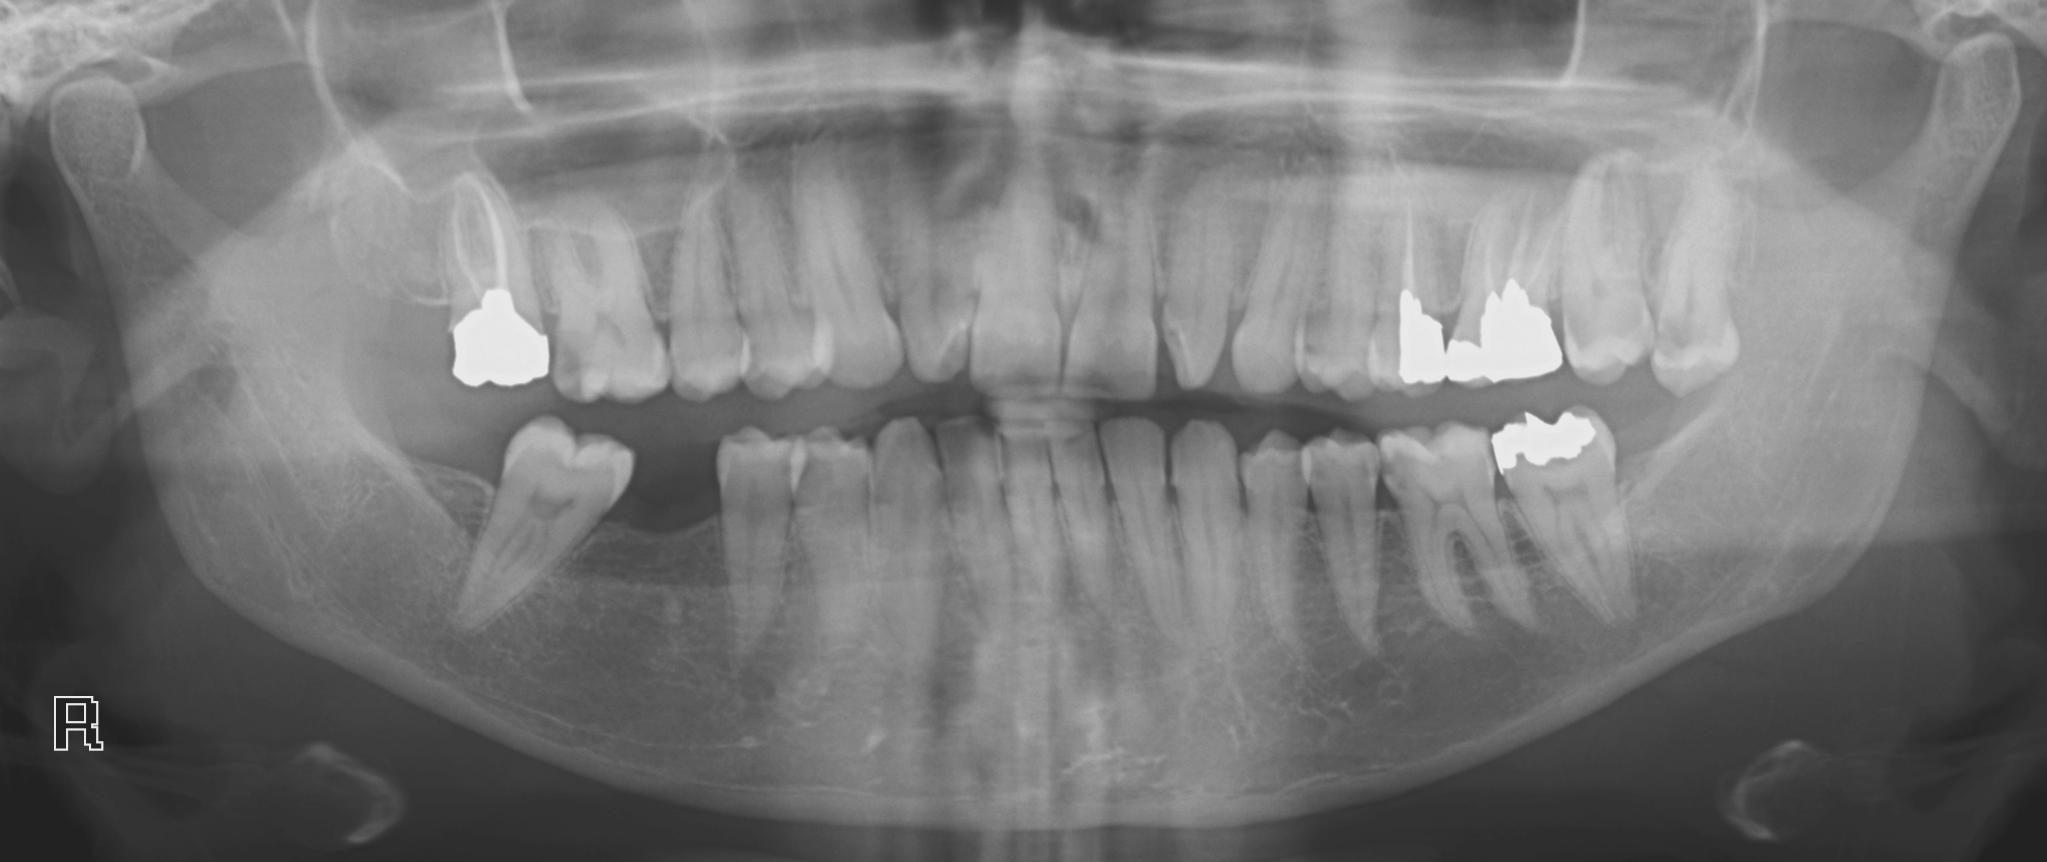Fillings: (1491, 406, 1633, 618)
Implant: (422, 172, 552, 404), (1440, 178, 1569, 392)
